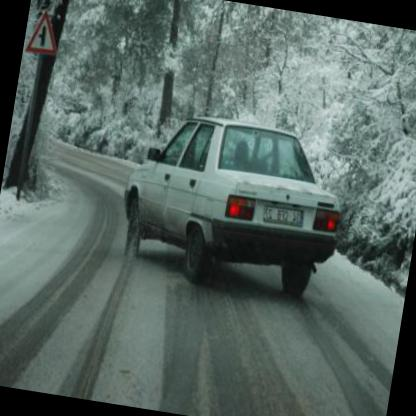car: (111, 99, 358, 303)
